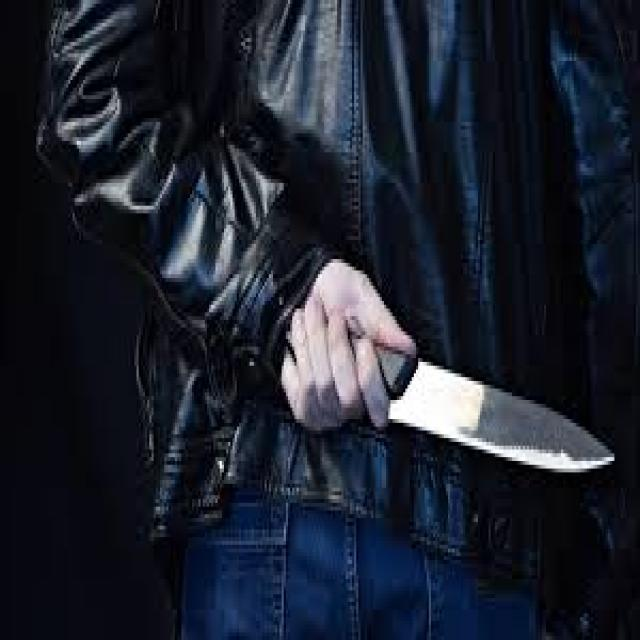knife: (341, 284, 603, 524)
